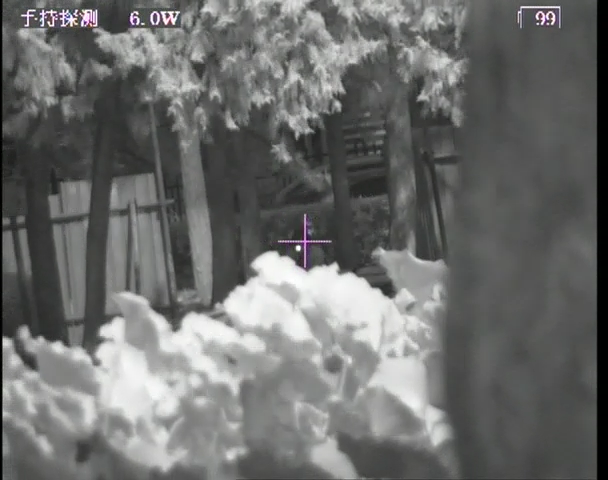my: (294, 243, 303, 252)
